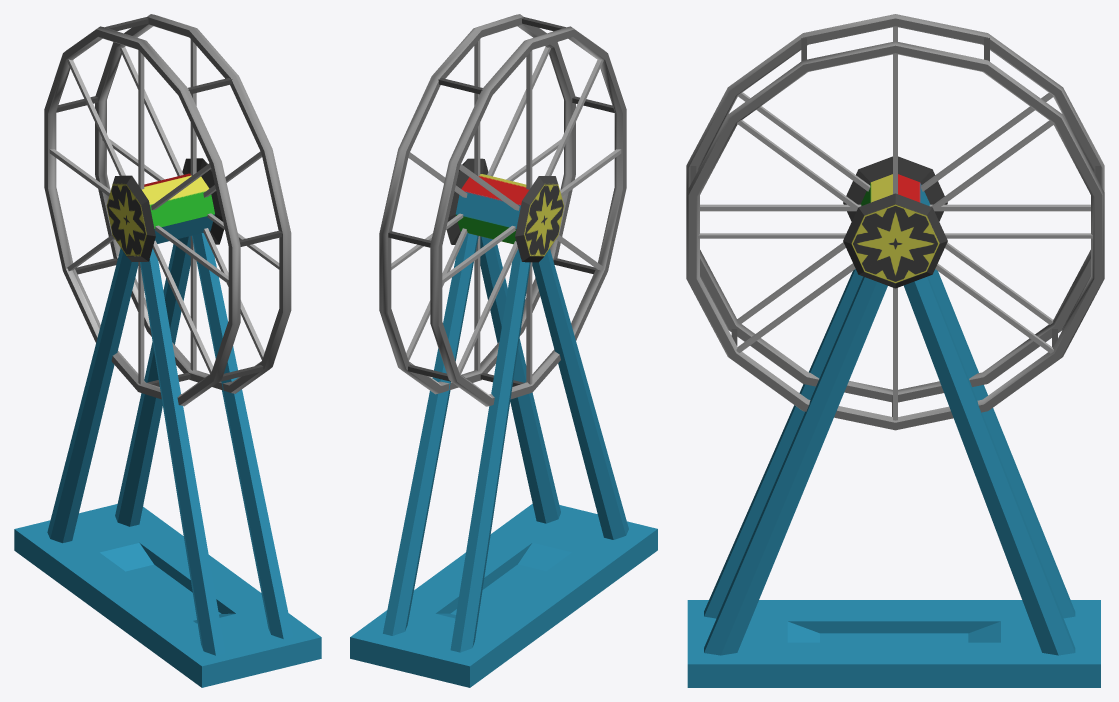
Rendered from Ferris Wheel.fbx.
3 renders of one model, left to right at view 1: azimuth 30°, elevation 25°; view 2: azimuth 150°, elevation 25°; view 3: azimuth 270°, elevation 25°, orthographic. The views are drawn at different scales.
Parts seen in each view (by area): view 1: pCube74_lambert6_0, pCube74_lambert6_0.001; view 2: pCube74_lambert6_0, pCube74_lambert6_0.001; view 3: pCube74_lambert6_0, pCube74_lambert6_0.001.
Part boxes in pixels (x1=…): pCube74_lambert6_0: x1=14, y1=233, x2=321, y2=687; pCube74_lambert6_0.001: x1=44, y1=14, x2=291, y2=406; pCube74_lambert6_0: x1=350, y1=231, x2=657, y2=687; pCube74_lambert6_0.001: x1=379, y1=14, x2=626, y2=406; pCube74_lambert6_0: x1=687, y1=269, x2=1100, y2=687; pCube74_lambert6_0.001: x1=686, y1=14, x2=1104, y2=430.
Size of the model in its own units: 55.34 by 256 by 152.
1 material, 1 textured.
